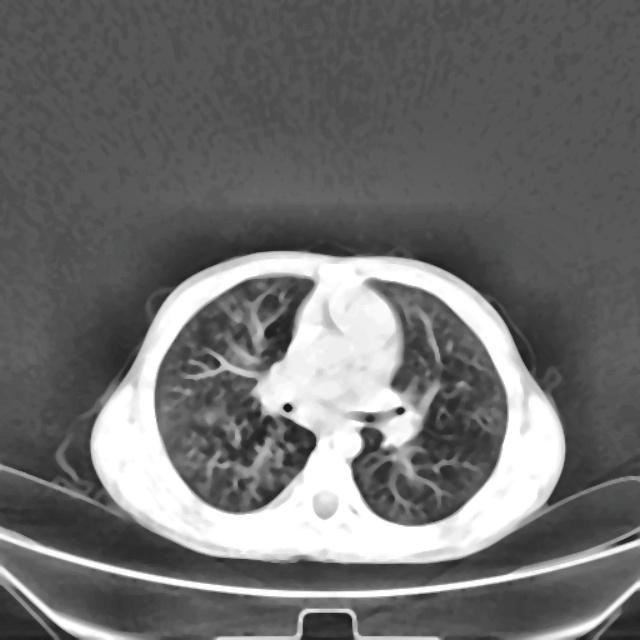covid: (88, 248, 567, 565)
